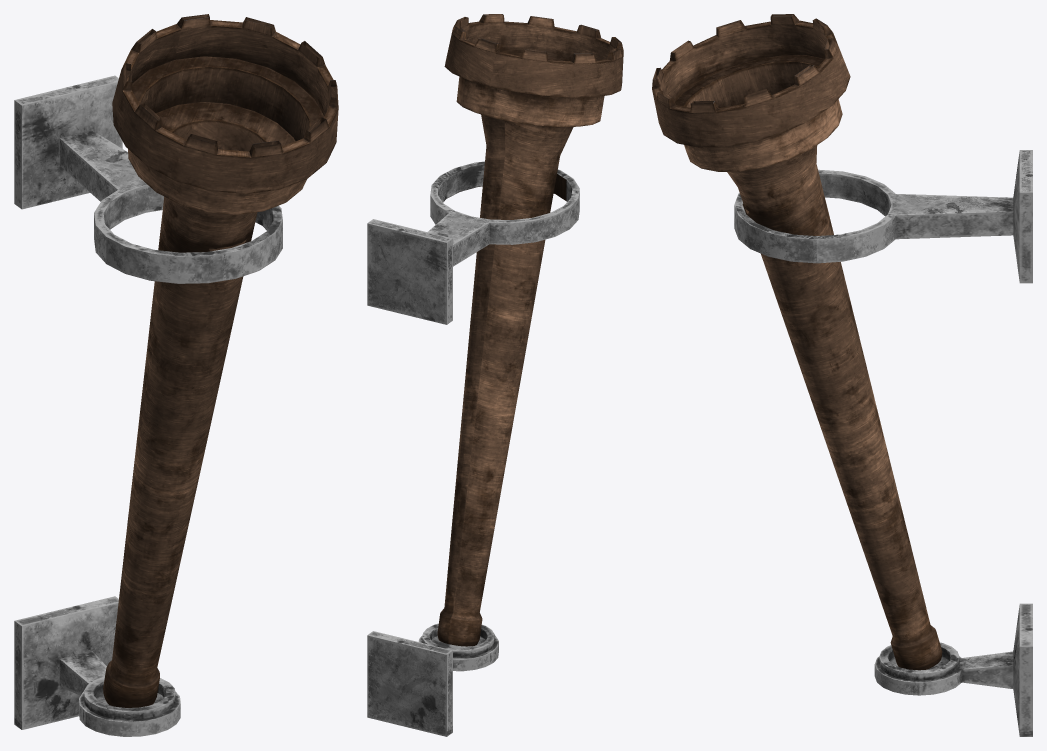
Rendered from Torch.glb.
3 renders of one model, left to right at view 1: azimuth 30°, elevation 25°; view 2: azimuth 150°, elevation 25°; view 3: azimuth 270°, elevation 25°, orthographic. The views are drawn at different scales.
Visible parts, largest first — view 1: coffin___graves:Torch_low_coffin___graves:StingrayPBS1_0, coffin___graves:Torch_base_low_coffin___graves:StingrayPBS1_; view 2: coffin___graves:Torch_low_coffin___graves:StingrayPBS1_0, coffin___graves:Torch_base_low_coffin___graves:StingrayPBS1_; view 3: coffin___graves:Torch_low_coffin___graves:StingrayPBS1_0, coffin___graves:Torch_base_low_coffin___graves:StingrayPBS1_.
Boxes of the visible parts, <box> form: coffin___graves:Torch_low_coffin___graves:StingrayPBS1_0: <box>103,14,338,707</box>; coffin___graves:Torch_base_low_coffin___graves:StingrayPBS1_: <box>14,75,282,736</box>; coffin___graves:Torch_low_coffin___graves:StingrayPBS1_0: <box>437,14,623,646</box>; coffin___graves:Torch_base_low_coffin___graves:StingrayPBS1_: <box>367,161,579,736</box>; coffin___graves:Torch_low_coffin___graves:StingrayPBS1_0: <box>652,14,942,670</box>; coffin___graves:Torch_base_low_coffin___graves:StingrayPBS1_: <box>734,150,1032,736</box>.
Bounding box in the file's own units: 4.9 × 18.5 × 9.41.
1 material, 1 textured.
